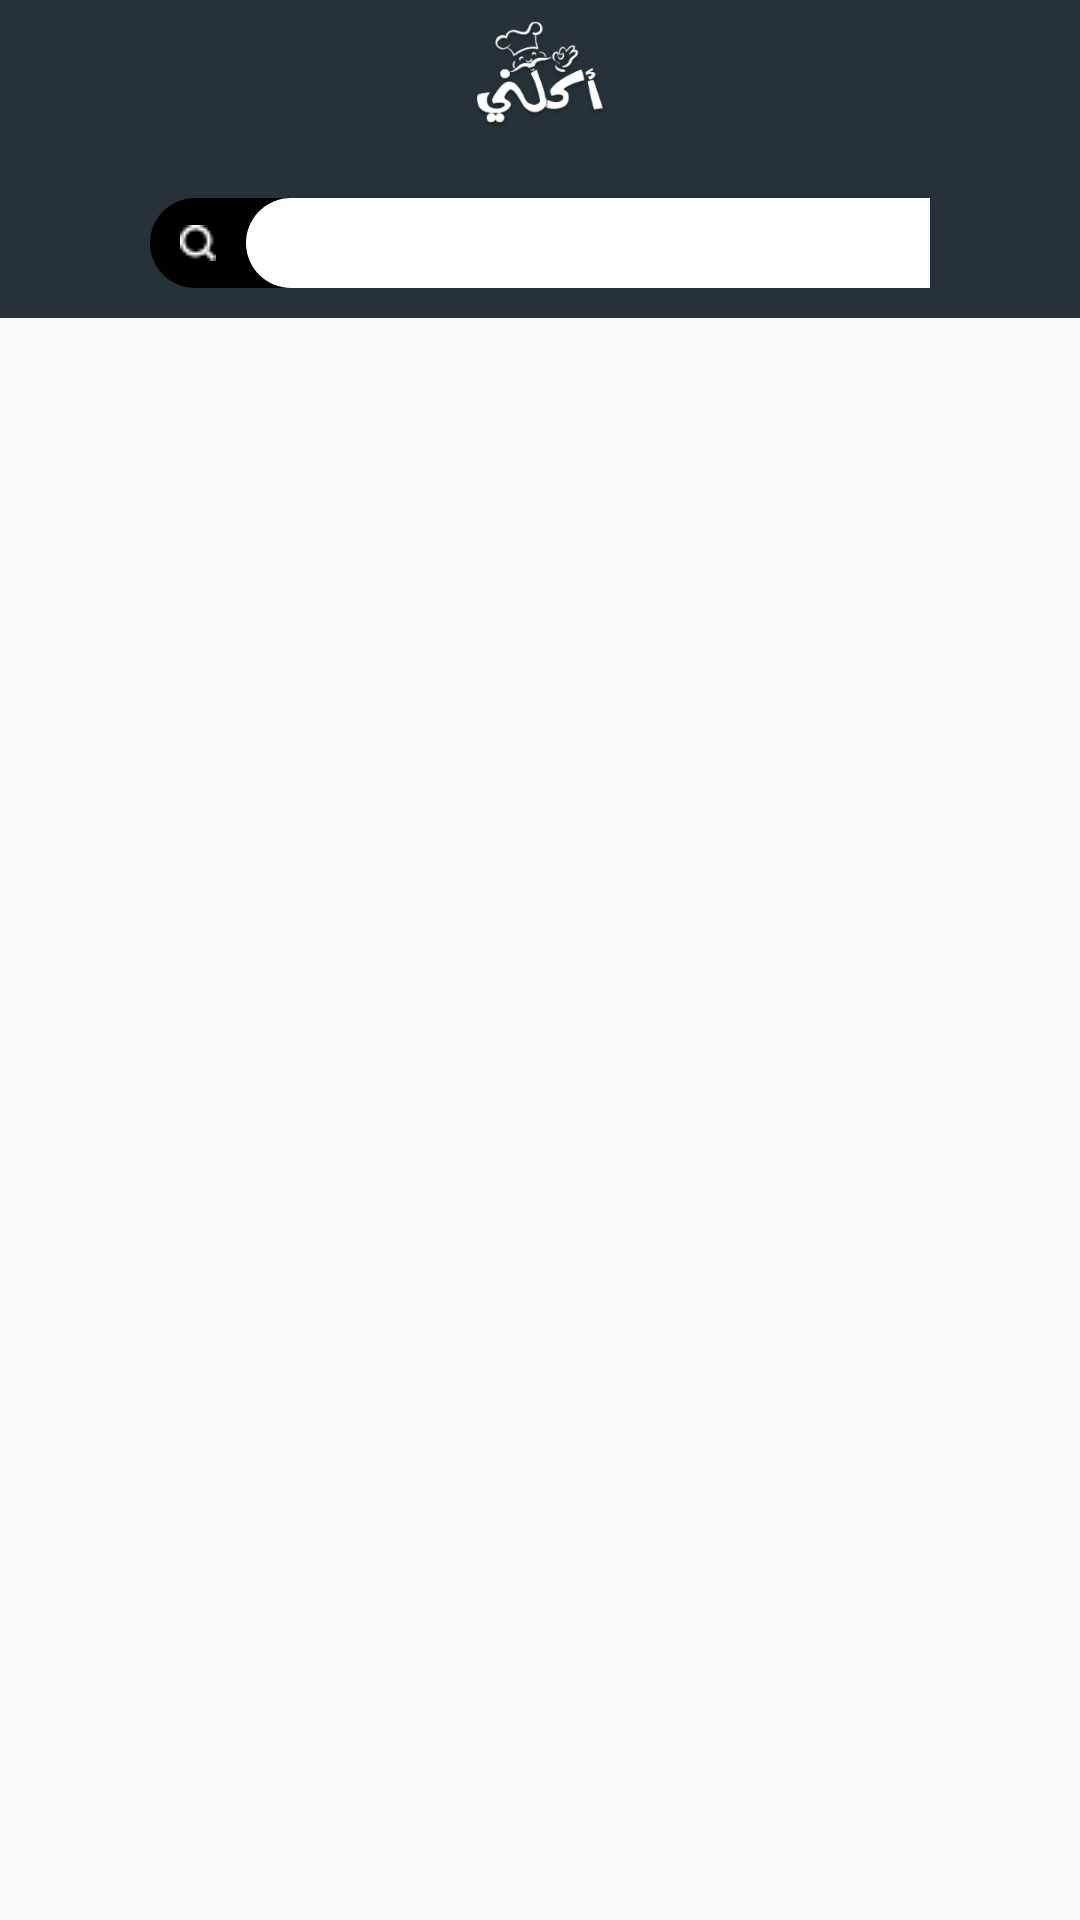

Named icons in this screenshot (1080*1920) and their bounding boxes, bbox(x1, y1, x2, y2):
search: bbox(180, 225, 216, 261)
